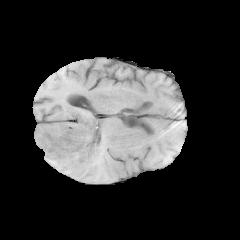glioma: (34, 101, 105, 176)
